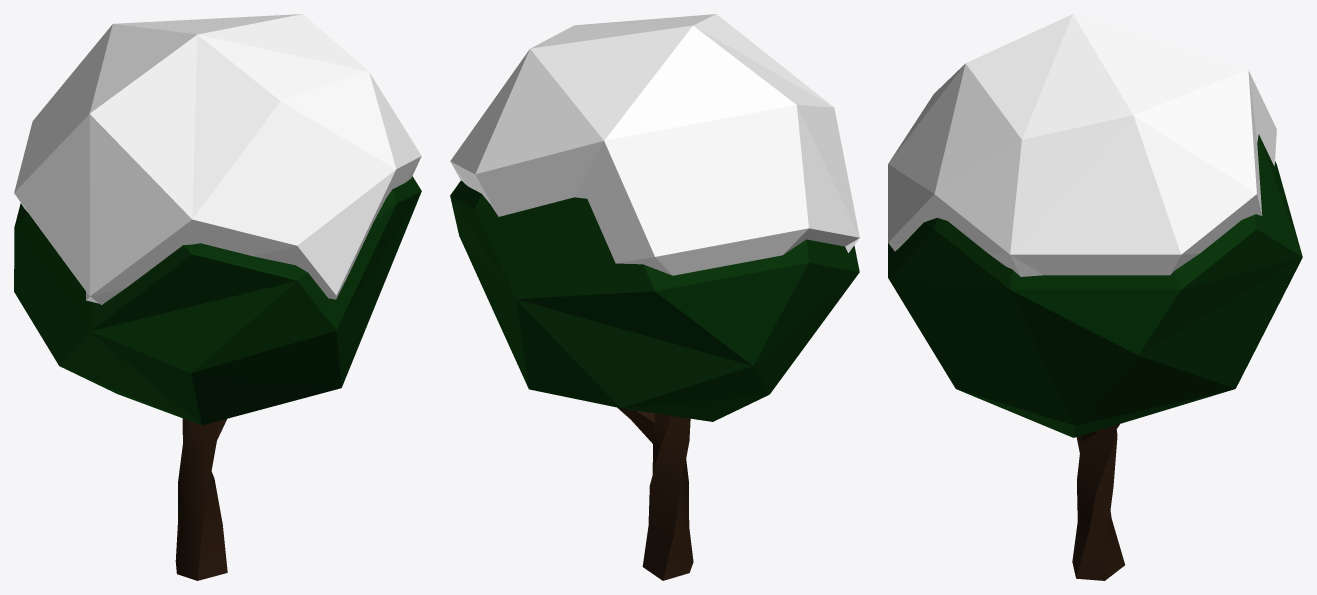
File: SnowTree.fbx
3 renders of one model, left to right at view 1: azimuth 30°, elevation 25°; view 2: azimuth 150°, elevation 25°; view 3: azimuth 270°, elevation 25°, orthographic. The views are drawn at different scales.
Parts seen in each view (by area): view 1: GeoSphere002, GeoSphere001, Box001; view 2: GeoSphere002, GeoSphere001, Box001; view 3: GeoSphere002, GeoSphere001, Box001.
Boxes of the visible parts, bbox=[...] form: GeoSphere002: bbox=[14, 14, 421, 304]; GeoSphere001: bbox=[14, 176, 421, 425]; Box001: bbox=[175, 418, 227, 580]; GeoSphere002: bbox=[450, 14, 859, 275]; GeoSphere001: bbox=[450, 180, 859, 421]; Box001: bbox=[617, 407, 693, 580]; GeoSphere002: bbox=[888, 14, 1276, 276]; GeoSphere001: bbox=[888, 134, 1302, 437]; Box001: bbox=[1072, 424, 1124, 580].
Size of the model in its own units: 372 by 547 by 374.
